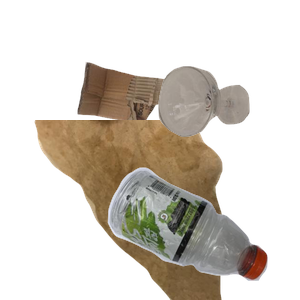cardboard: (75, 59, 237, 176)
glass: (156, 64, 300, 194)
plastic: (105, 165, 300, 300)
trash: (32, 120, 248, 300)
